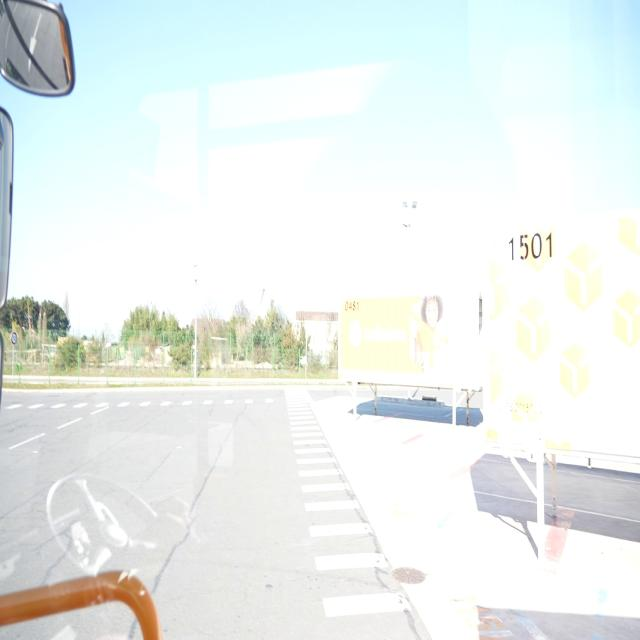Code: (504, 222, 555, 270), (341, 293, 364, 314)
